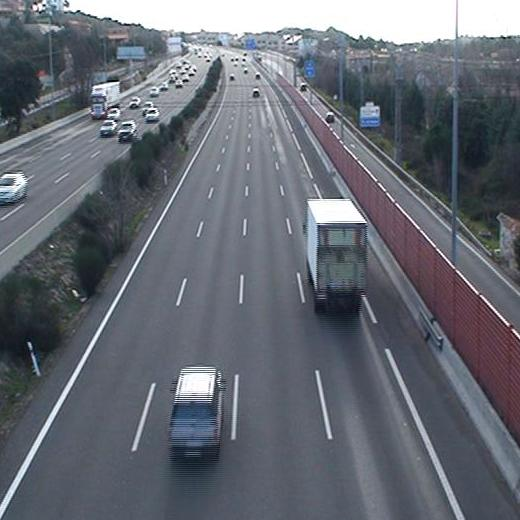car: (162, 361, 234, 469)
truck: (300, 193, 373, 324)
